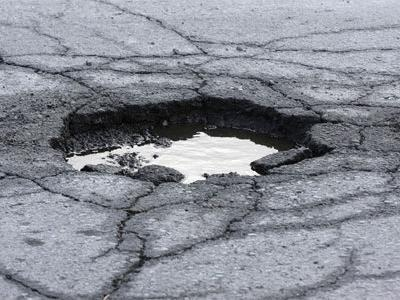pothole: (46, 89, 335, 191)
